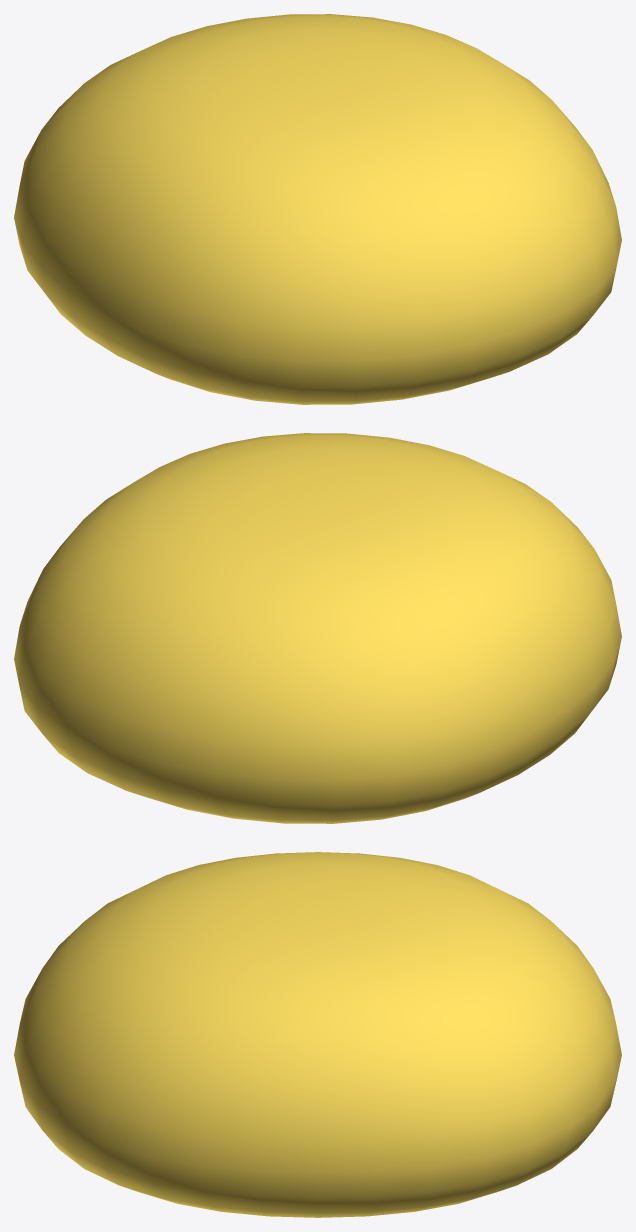
The model's file is Patte.fbx.
The picture shows the model from 3 angles, top to bottom: view 1: azimuth 30°, elevation 25°; view 2: azimuth 150°, elevation 25°; view 3: azimuth 270°, elevation 25°; orthographic projection. The views are drawn at different scales.
Parts seen in each view (by area): view 1: Sphere; view 2: Sphere; view 3: Sphere.
Part boxes in pixels (left/top/right/bottom): Sphere: left=14, top=14, right=621, bottom=404; Sphere: left=14, top=433, right=621, bottom=823; Sphere: left=14, top=852, right=621, bottom=1217.
Size of the model in its own units: 183 by 82.31 by 200.
